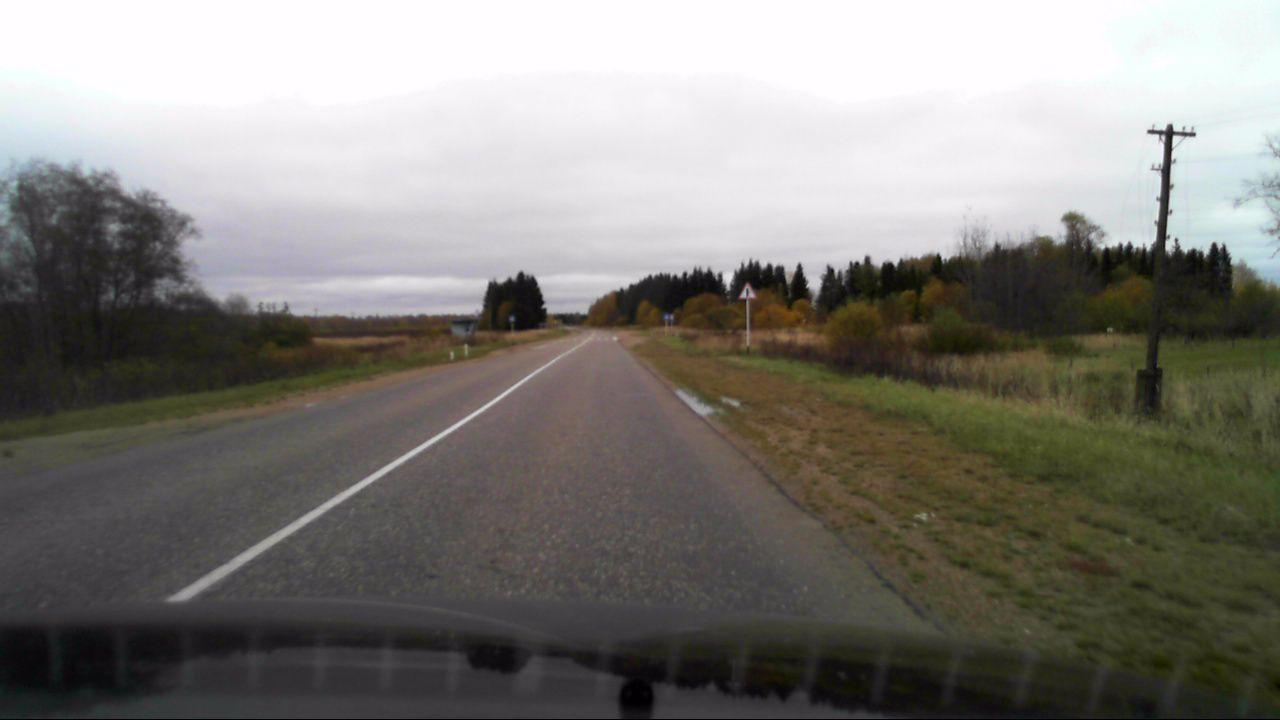road_sign: (739, 281, 757, 299)
